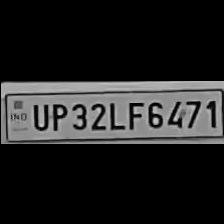1: (200, 95, 220, 127)
2: (86, 97, 106, 130)
3: (67, 98, 87, 130)
4: (164, 96, 184, 128)
6: (143, 97, 163, 128)
7: (182, 96, 200, 128)
F: (124, 97, 144, 128)
L: (105, 97, 124, 129)
P: (47, 99, 67, 130)
U: (28, 99, 48, 130)
